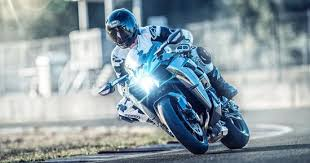helmet: (106, 10, 140, 42)
